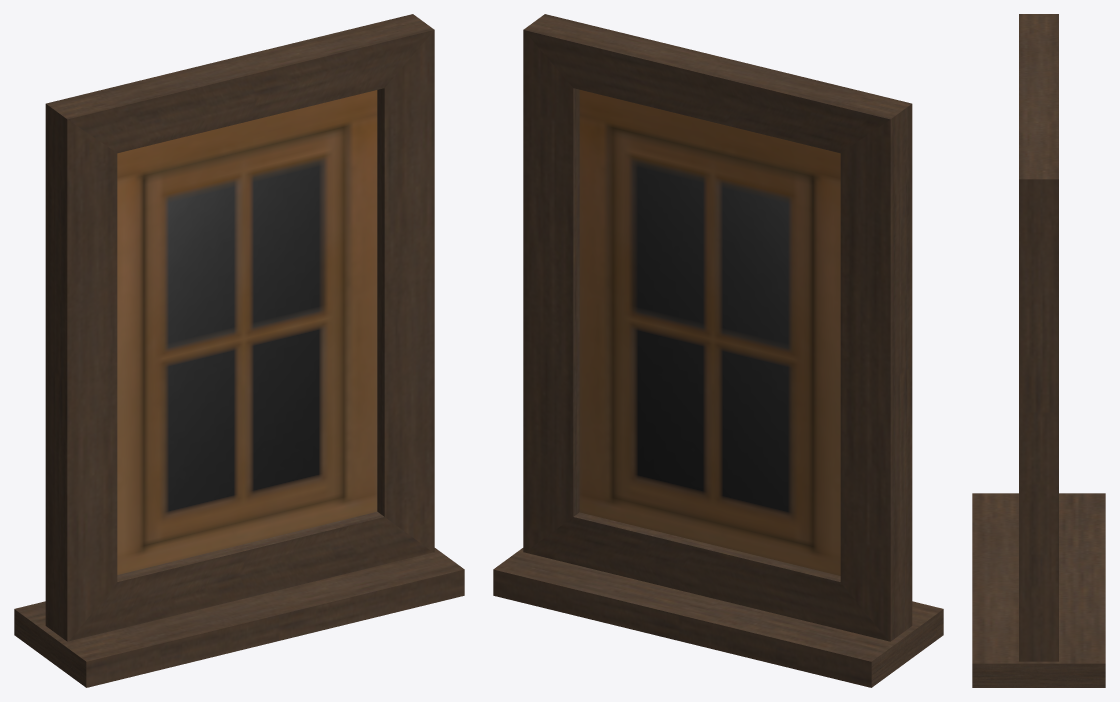
Rendered from Window_2B.fbx.
The picture shows the model from 3 angles, left to right: view 1: azimuth 30°, elevation 25°; view 2: azimuth 150°, elevation 25°; view 3: azimuth 270°, elevation 25°; orthographic projection. The views are drawn at different scales.
Visible parts, largest first — view 1: polySurface1481; view 2: polySurface1481; view 3: polySurface1481.
Part boxes in pixels (bbox=[...]): polySurface1481: bbox=[14, 14, 464, 687]; polySurface1481: bbox=[493, 14, 943, 687]; polySurface1481: bbox=[972, 14, 1105, 687].
Bounding box in the file's own units: 1.51 × 2.09 × 0.5.
